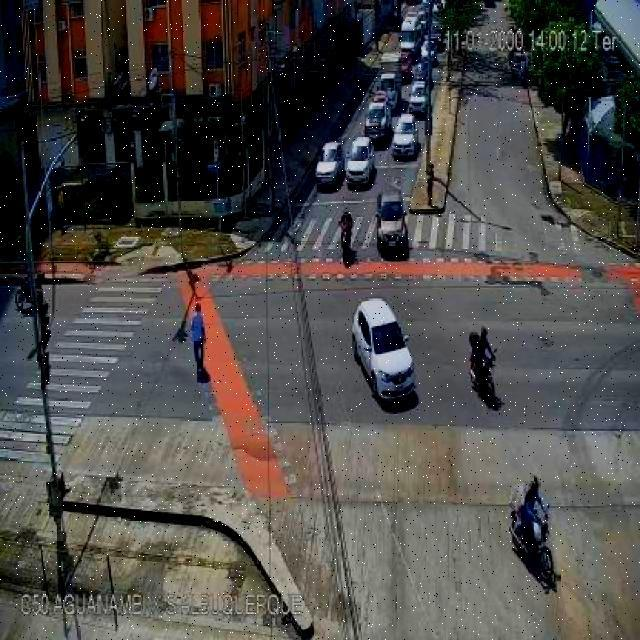Car: (346, 294, 420, 411), (374, 190, 410, 260), (315, 140, 345, 187), (345, 138, 374, 186), (364, 98, 392, 144), (391, 114, 419, 158), (376, 72, 399, 108), (408, 81, 430, 116), (399, 27, 419, 55), (420, 38, 438, 67)
Cycle: (495, 475, 570, 585), (465, 316, 506, 410), (329, 205, 362, 262), (391, 54, 419, 82)
